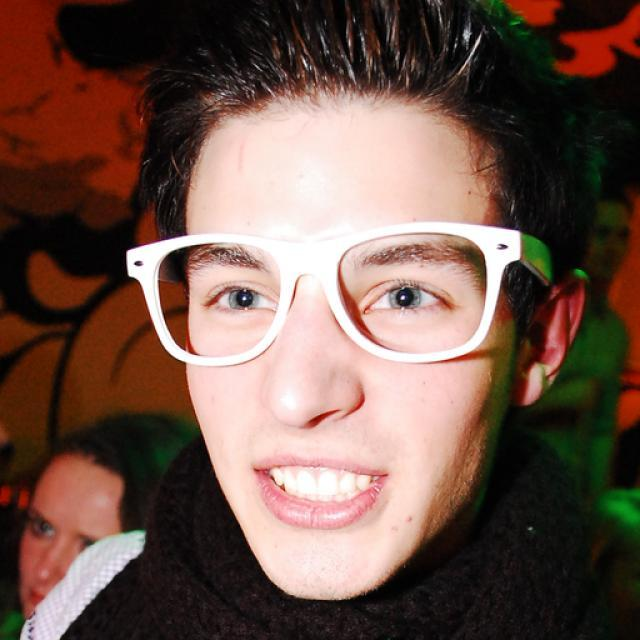anger: (17, 450, 126, 627)
disgust: (183, 81, 515, 599)
